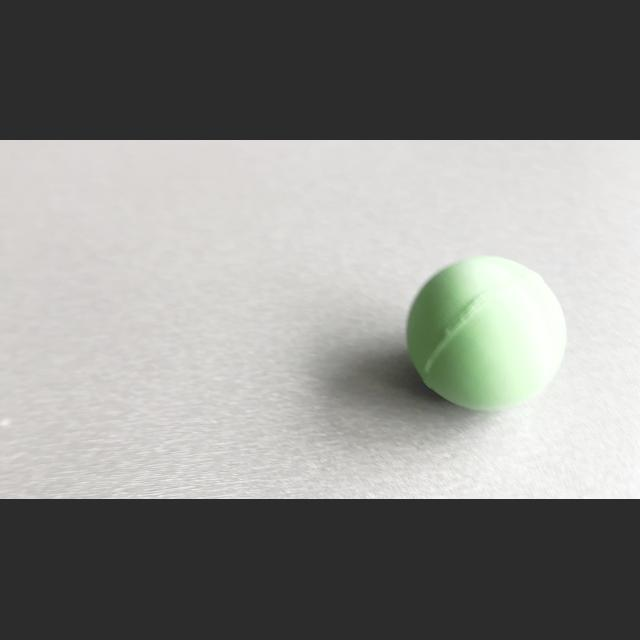objects: (397, 243, 577, 419)
